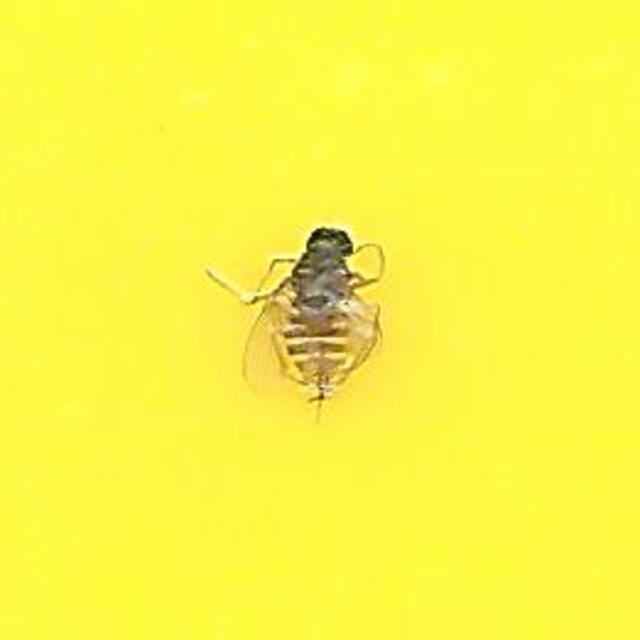Brachycera: (245, 218, 395, 422)
